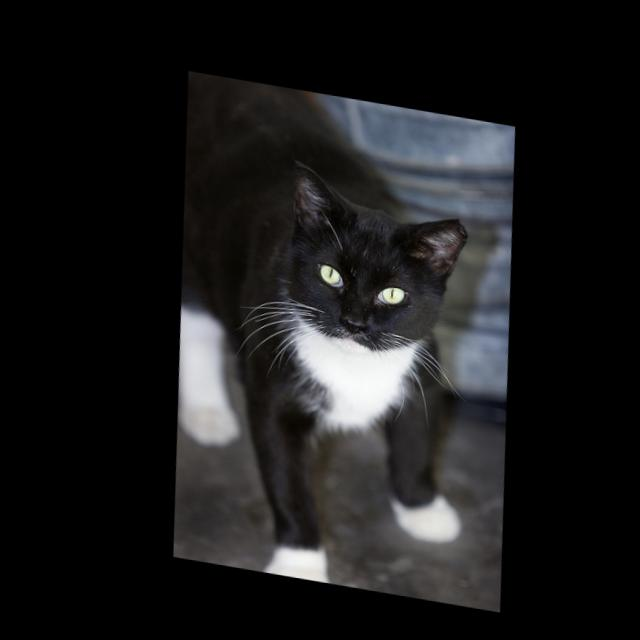animals: (276, 157, 471, 343)
